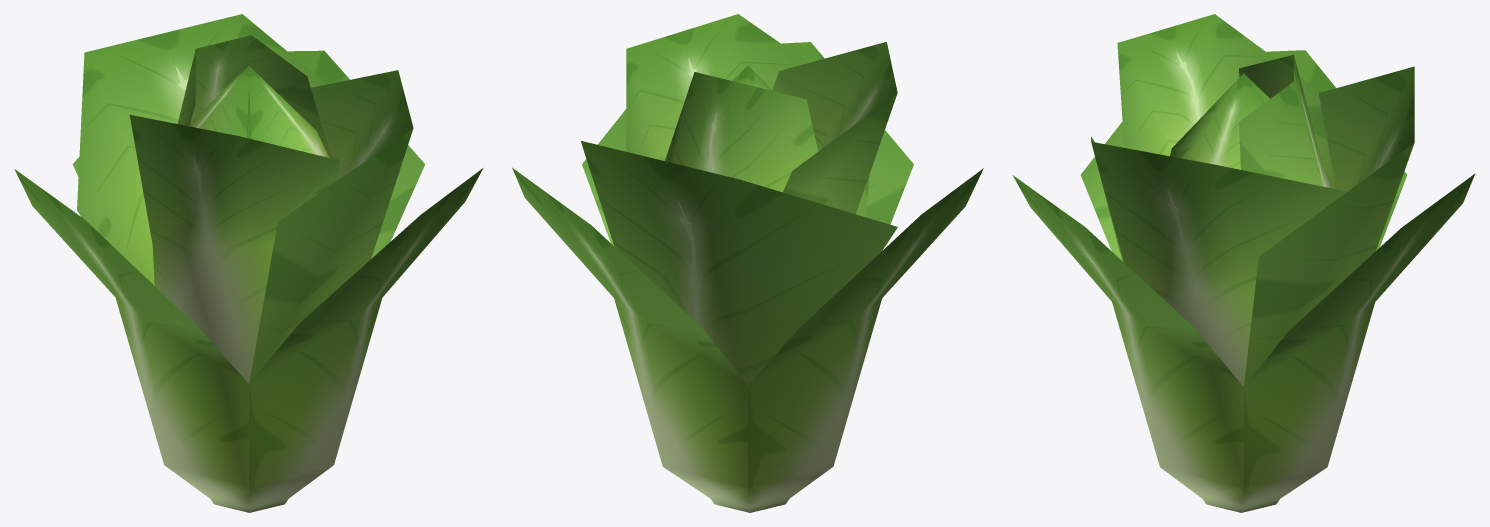
The model's file is Lettuce.FBX.
The picture shows the model from 3 angles, left to right: view 1: azimuth 30°, elevation 25°; view 2: azimuth 150°, elevation 25°; view 3: azimuth 270°, elevation 25°; orthographic projection.
Visible parts, largest first — view 1: Lettuce; view 2: Lettuce; view 3: Lettuce.
Boxes of the visible parts, bbox=[...] form: Lettuce: bbox=[14, 14, 483, 512]; Lettuce: bbox=[512, 14, 983, 512]; Lettuce: bbox=[1012, 14, 1475, 512].
Bounding box in the file's own units: 13.43 × 13.83 × 13.56.
Materials: 1 (1 with a texture image).
